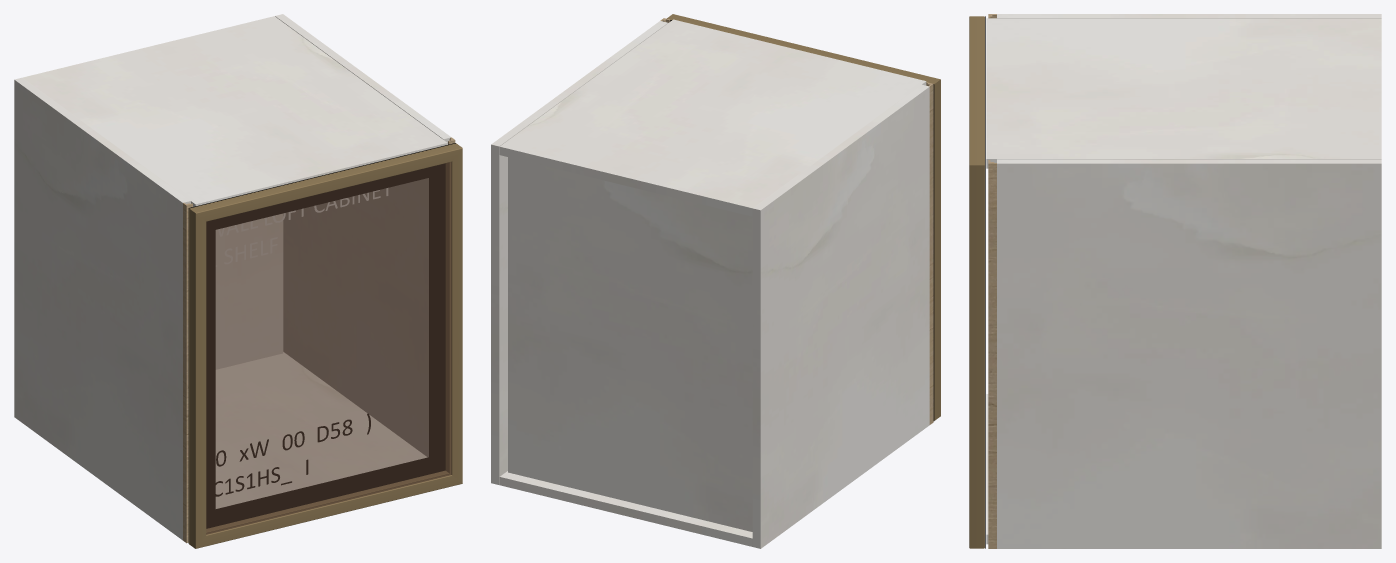
File: LOF-SH-NHX-GL-1SG-RHS-XXX-500-600-560-15.glb
3 renders of one model, left to right at view 1: azimuth 30°, elevation 25°; view 2: azimuth 150°, elevation 25°; view 3: azimuth 270°, elevation 25°, orthographic. The views are drawn at different scales.
Parts seen in each view (by area): view 1: Object_node_4, TP_node_0, TP, TP_node_1, Neon 22 Profile ALU PROF NEON 20 L21XH22.5MM 3MTR S2/405 SEC (×4), TP_node, Object_node_6, TP_node_2, Object_node_8, 2D text_node_1, 2D text_node_0; view 2: TP_node_2, TP_node_0, TP, TP_node_1, Neon 22 Profile ALU PROF NEON 20 L21XH22.5MM 3MTR S2/405 SEC (×2), TP_node, Object_node_8, Object_node_6; view 3: TP_node_1, TP, Neon 22 Profile ALU PROF NEON 20 L21XH22.5MM 3MTR S2/405 SEC (×2), Object_node_14, TP_node_0, Object_node_6.
Part boxes in pixels (x1,y1,x2,y2): Object_node_4: [206, 162, 451, 534]; TP_node_0: [14, 77, 190, 540]; TP: [23, 16, 447, 206]; TP_node_1: [275, 14, 450, 457]; Neon 22 Profile ALU PROF NEON 20 L21XH22.5MM 3MTR S2/405 SEC (×4): [189, 143, 462, 548]; TP_node: [215, 352, 427, 508]; Object_node_6: [188, 143, 455, 543]; TP_node_2: [215, 213, 283, 369]; Object_node_8: [183, 202, 192, 543]; 2D text_node_1: [215, 188, 388, 266]; 2D text_node_0: [216, 413, 370, 466]; TP_node_2: [508, 157, 752, 531]; TP_node_0: [752, 84, 929, 548]; TP: [499, 19, 926, 216]; TP_node_1: [491, 21, 667, 484]; Neon 22 Profile ALU PROF NEON 20 L21XH22.5MM 3MTR S2/405 SEC (×2): [667, 14, 940, 420]; TP_node: [499, 471, 752, 546]; Object_node_8: [926, 82, 933, 424]; Object_node_6: [670, 20, 934, 420]; TP_node_1: [997, 159, 1381, 548]; TP: [986, 18, 1381, 168]; Neon 22 Profile ALU PROF NEON 20 L21XH22.5MM 3MTR S2/405 SEC (×2): [969, 16, 984, 548]; Object_node_14: [988, 160, 996, 548]; TP_node_0: [997, 14, 1381, 18]; Object_node_6: [985, 16, 985, 548].
Size of what is drawn, in the model's own units: 0.5 by 0.6 by 0.582.
Materials: 6 (2 with a texture image).
